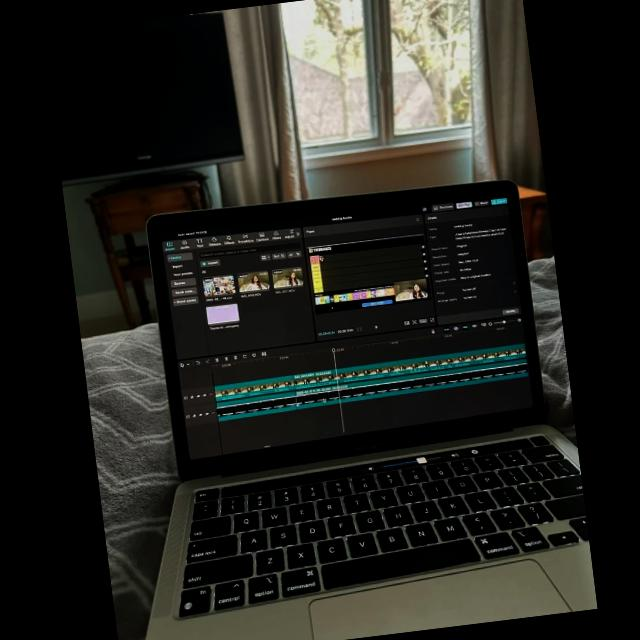laptop: (133, 162, 596, 640)
